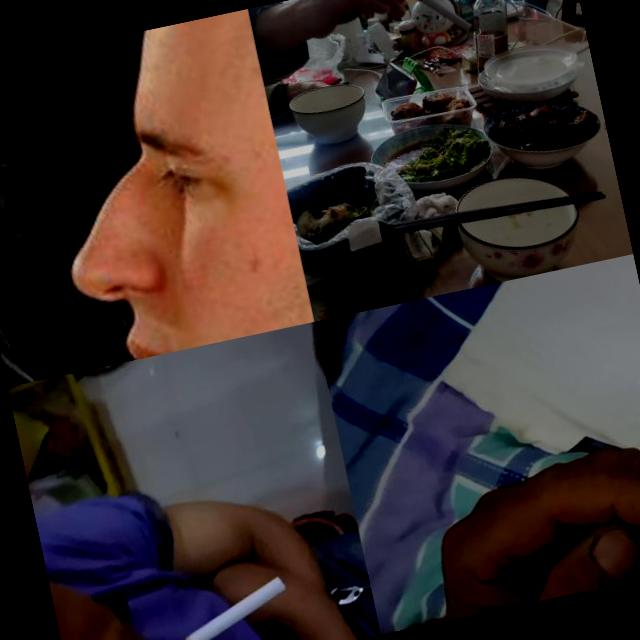cigarette: (141, 572, 298, 640), (395, 0, 472, 43), (621, 380, 640, 495)
